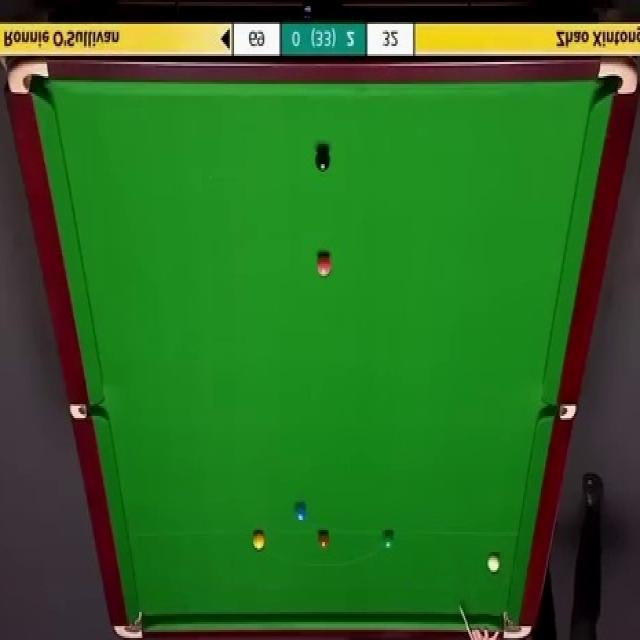black-ball: (314, 147, 331, 173)
blue-ball: (295, 503, 309, 524)
brown-ball: (316, 530, 331, 552)
green-ball: (380, 530, 395, 550)
pink-ball: (315, 254, 331, 277)
white-ball: (487, 553, 501, 575)
yellow-ball: (252, 531, 265, 552)
